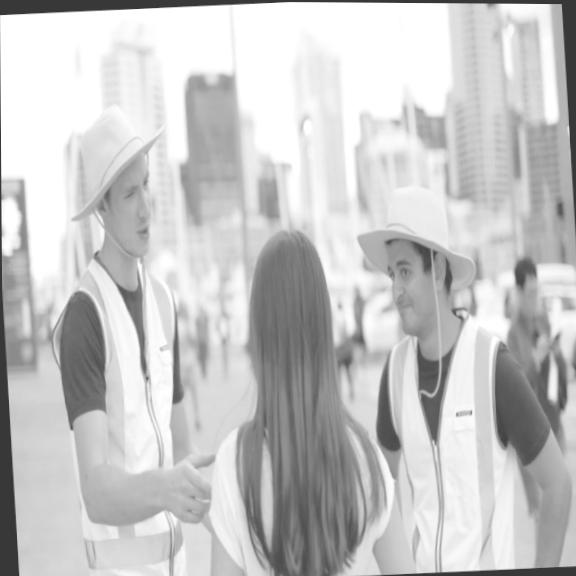safety_vest: (43, 244, 193, 576), (382, 302, 520, 571)
